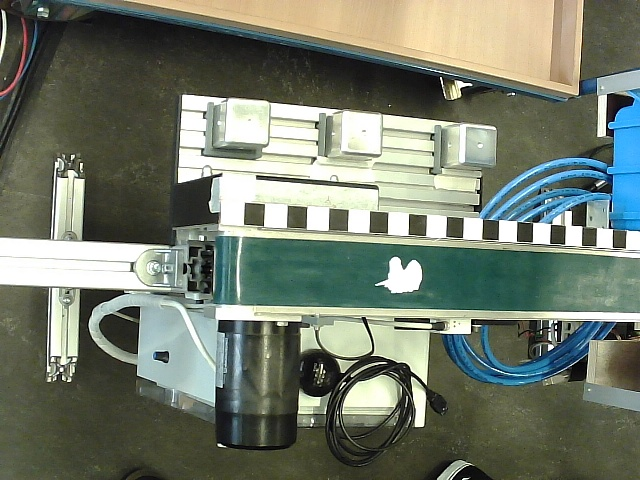unicorn: (374, 256, 424, 294)
